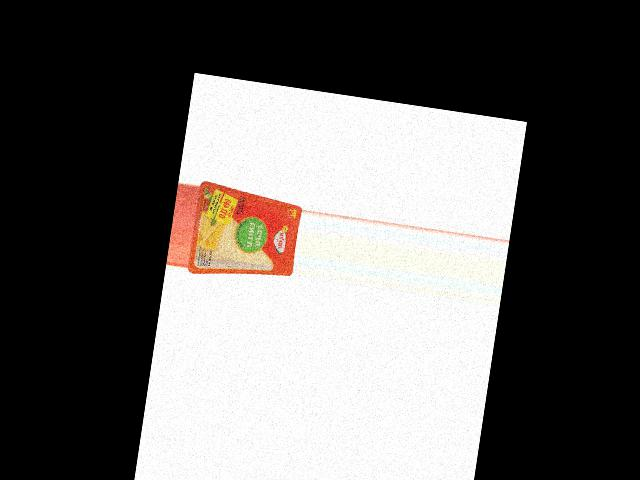cheese: (186, 180, 303, 287)
